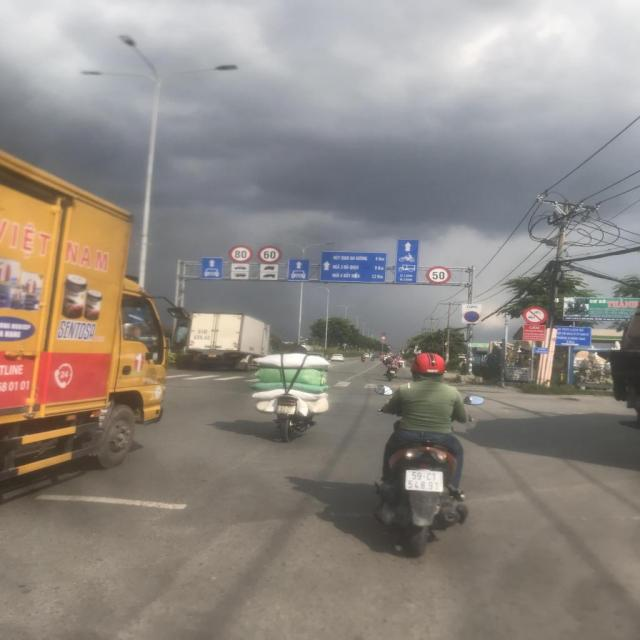cam_cac_loai_xe_3_banh: (520, 306, 548, 325)
cam_dung_xe_va_do_xe: (464, 310, 480, 322)
duong_cho_xe_o_to: (287, 260, 310, 282), (201, 257, 222, 278)
khac: (320, 252, 388, 284), (394, 240, 419, 283), (230, 272, 249, 281), (260, 264, 278, 272), (260, 272, 278, 280), (232, 264, 250, 272)
object: (523, 325, 546, 342)
toc_do_toi_da_50: (424, 266, 452, 285)
toc_do_toi_da_60: (257, 246, 283, 264)
toc_do_toi_da_80: (228, 244, 254, 264)
